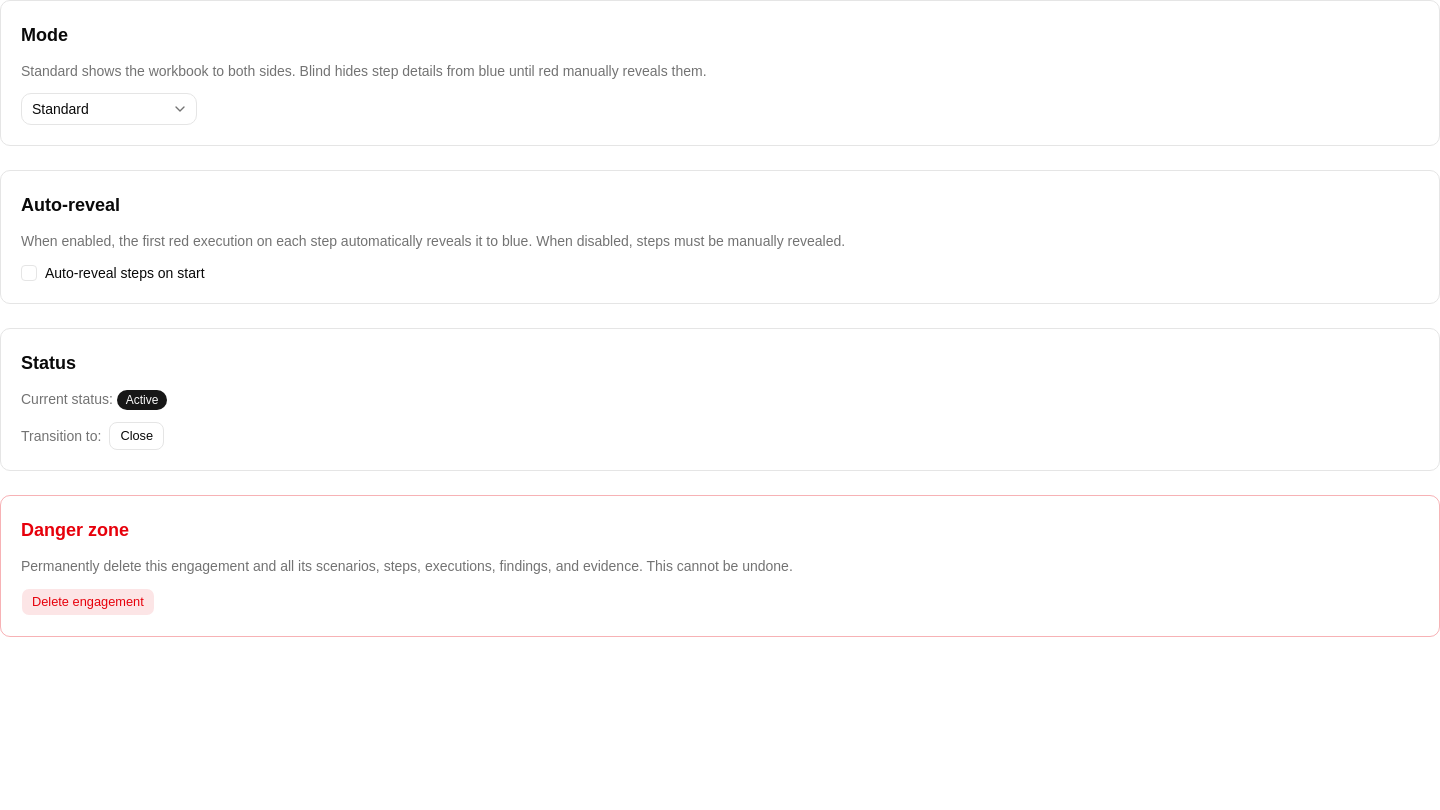
Test case: SettingsPage danger zone › deleting sends DELETE for this engagement and returns to the list
The width and height of the screenshot is (1440, 810).
What coordinates should you click on to do the following:
click the button "Delete engagement"
I would click on:
 (88, 602)
Its box is [21,588,155,616].
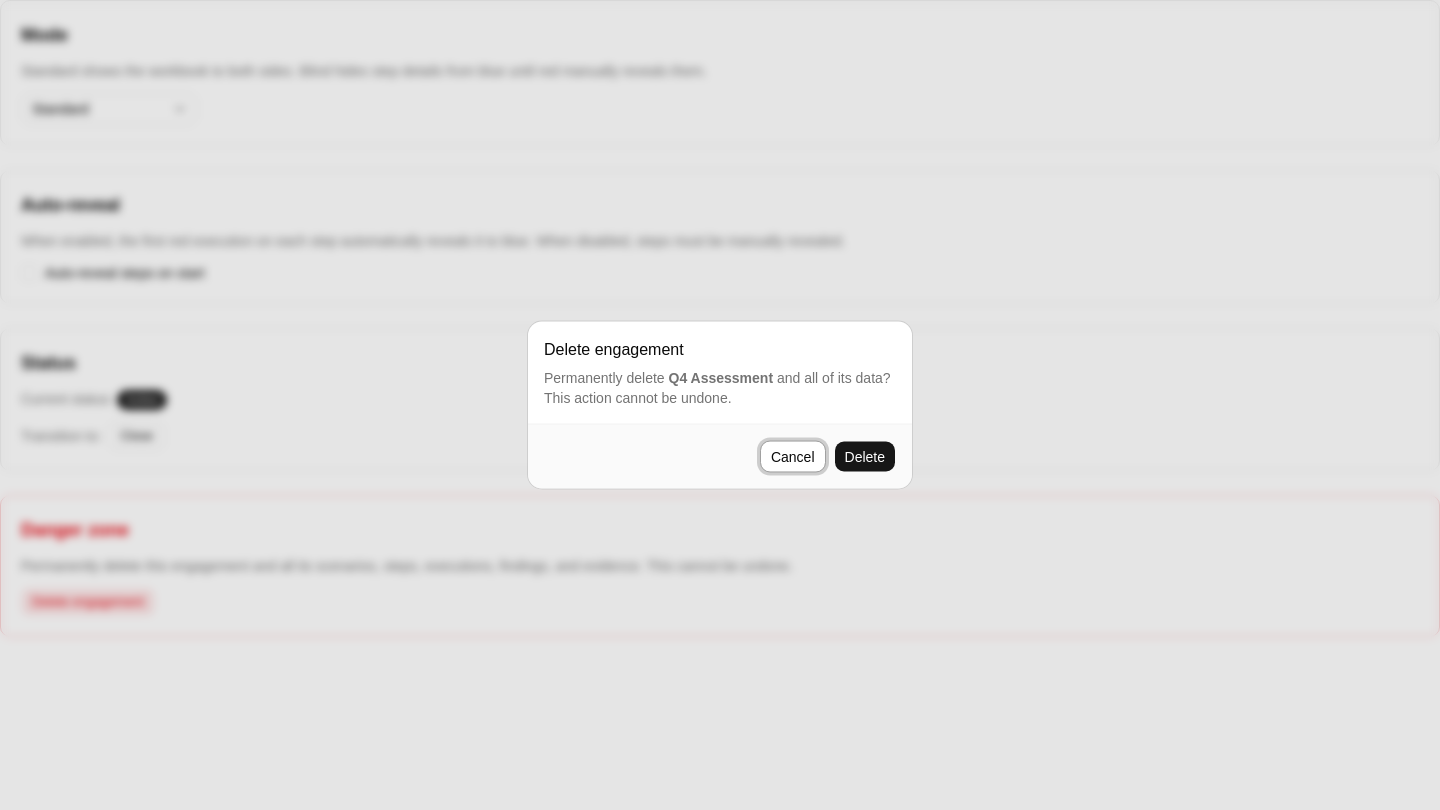
What coordinates should you click on to do the following:
click the button "Delete"
I would click on:
 (865, 456)
Its box is [834,440,896,472].
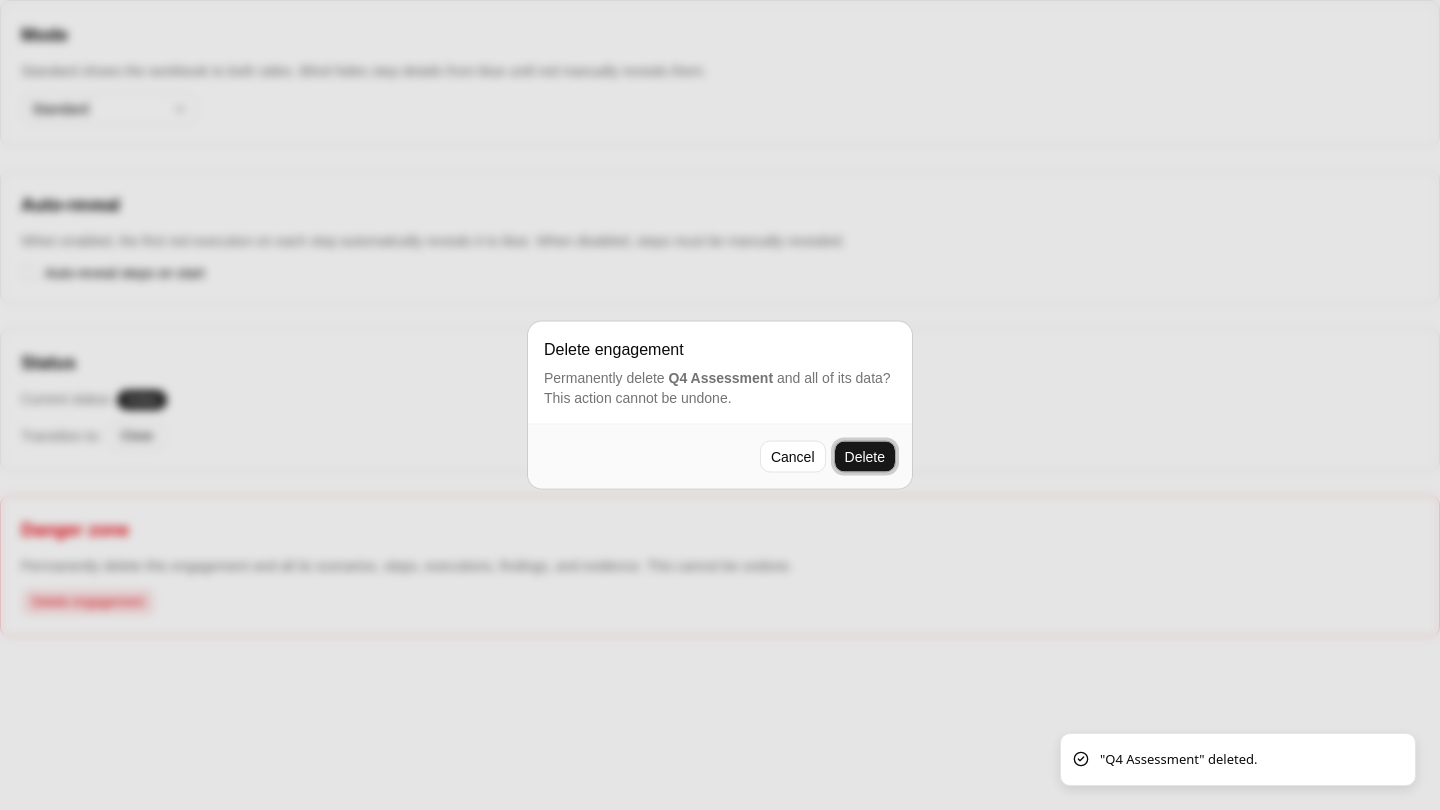
Check: the text "\"Q4 Assessment\" deleted." is shown, box [1100,750,1258,769]
